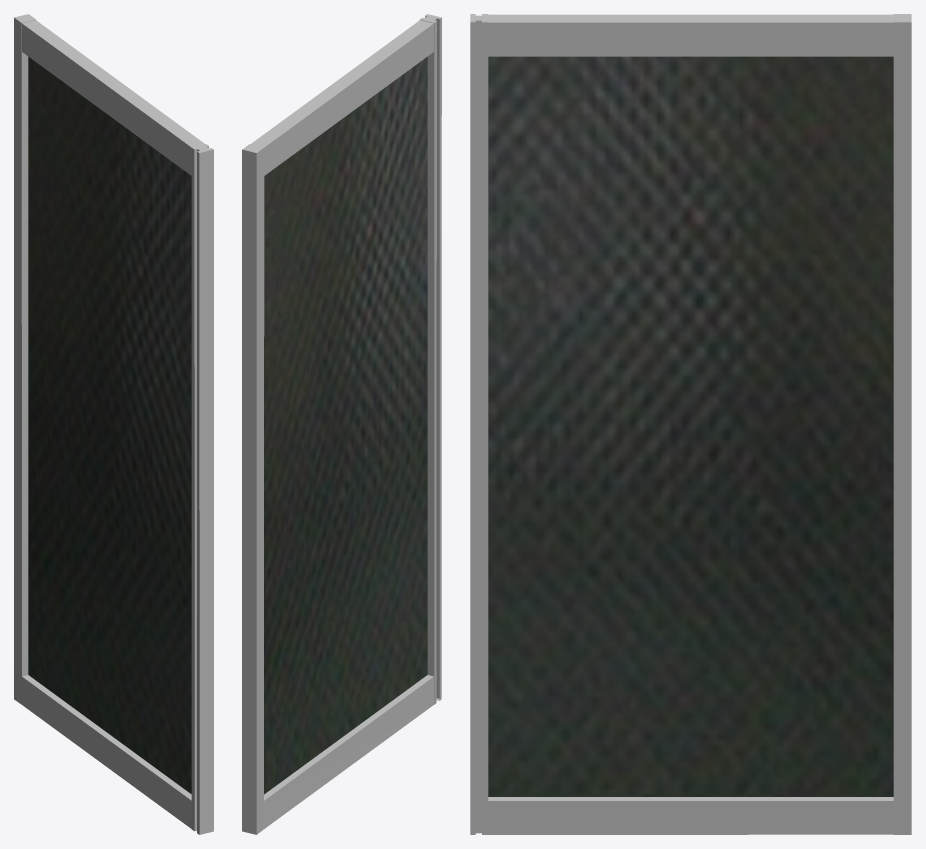
File: JpHouse_02door_br.fbx
The picture shows the model from 3 angles, left to right: view 1: azimuth 30°, elevation 25°; view 2: azimuth 150°, elevation 25°; view 3: azimuth 270°, elevation 25°; orthographic projection. The views are drawn at different scales.
Visible parts, largest first — view 1: JpHouse_02door_br; view 2: JpHouse_02door_br; view 3: JpHouse_02door_br.
Boxes of the visible parts, left/top/right/bottom form: JpHouse_02door_br: left=14, top=14, right=213, bottom=834; JpHouse_02door_br: left=242, top=14, right=441, bottom=834; JpHouse_02door_br: left=470, top=14, right=911, bottom=834.
Bounding box in the file's own units: 0.056 × 2.52 × 1.24.
